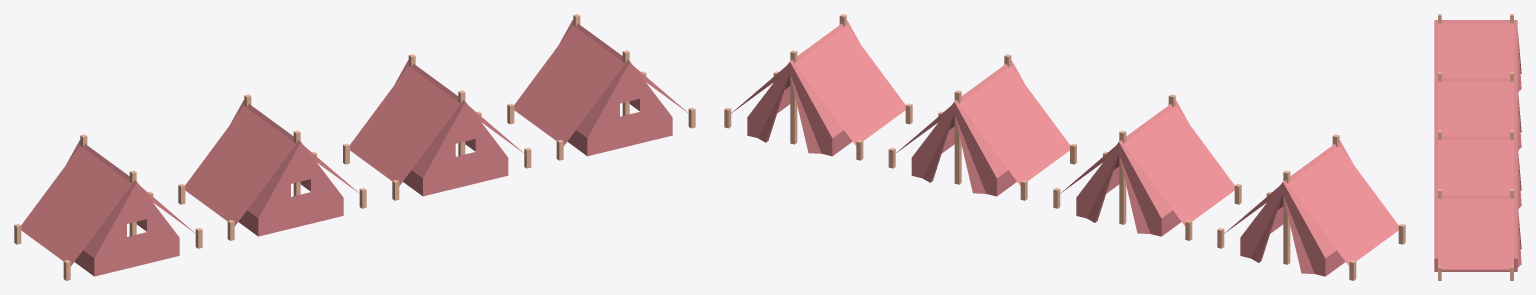
Rendered from tentbright.gltf.
The picture shows the model from 3 angles, left to right: view 1: azimuth 30°, elevation 25°; view 2: azimuth 150°, elevation 25°; view 3: azimuth 270°, elevation 25°; orthographic projection. The views are drawn at different scales.
Visible parts, largest first — view 1: tent_detailedOpen, tent_detailedOpen.006, tent_detailedOpen.002, tent_detailedOpen.004; view 2: tent_detailedOpen, tent_detailedOpen.006, tent_detailedOpen.002, tent_detailedOpen.004; view 3: tent_detailedOpen, tent_detailedOpen.002, tent_detailedOpen.004, tent_detailedOpen.006.
Part boxes in pixels (<box>): tent_detailedOpen: <box>507,14,695,160</box>; tent_detailedOpen.006: <box>14,134,202,280</box>; tent_detailedOpen.002: <box>343,54,531,200</box>; tent_detailedOpen.004: <box>178,94,366,240</box>; tent_detailedOpen: <box>724,14,912,160</box>; tent_detailedOpen.006: <box>1217,134,1405,280</box>; tent_detailedOpen.002: <box>888,54,1076,200</box>; tent_detailedOpen.004: <box>1053,94,1241,240</box>; tent_detailedOpen: <box>1434,189,1521,280</box>; tent_detailedOpen.002: <box>1434,130,1521,208</box>; tent_detailedOpen.004: <box>1434,72,1521,150</box>; tent_detailedOpen.006: <box>1434,14,1521,91</box>.
Size of the model in its own units: 4.04 by 0.5611 by 0.6664.
